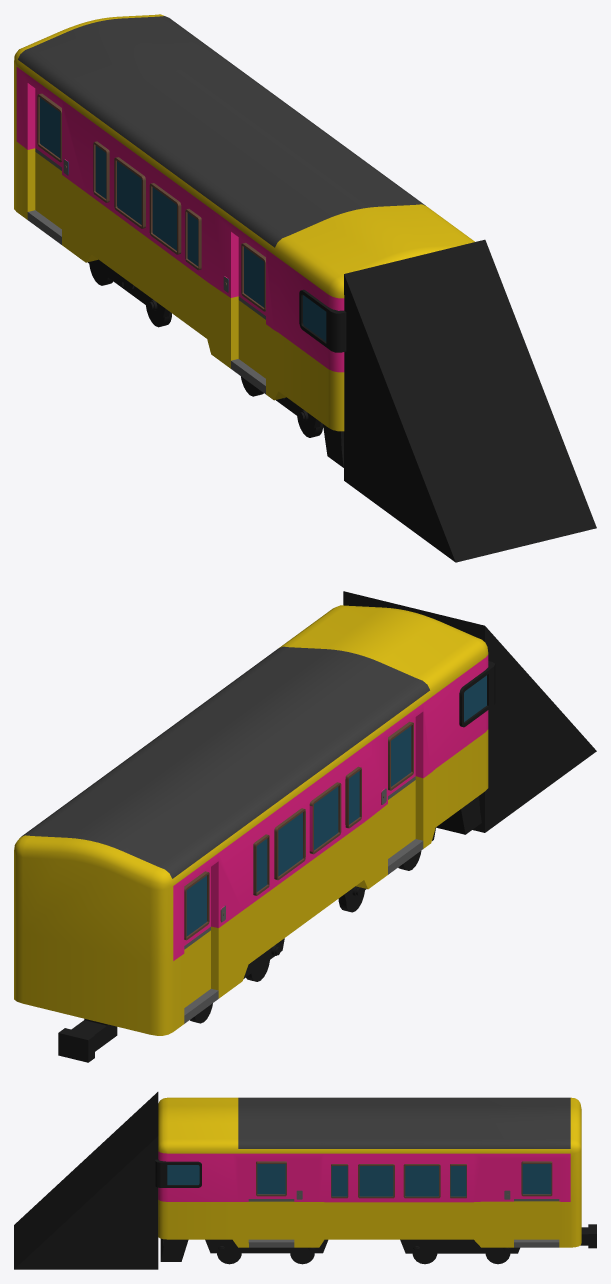
File: uptrain2.FBX
3 renders of one model, top to bottom at view 1: azimuth 30°, elevation 25°; view 2: azimuth 150°, elevation 25°; view 3: azimuth 270°, elevation 25°, orthographic. The views are drawn at different scales.
Visible parts, largest first — view 1: Object002; view 2: Object002; view 3: Object002.
Boxes of the visible parts, left/top/right/bottom form: Object002: left=14, top=14, right=596, bottom=562; Object002: left=14, top=591, right=596, bottom=1062; Object002: left=14, top=1092, right=596, bottom=1269.
Bounding box in the file's own units: 41.11 × 50.34 × 198.
